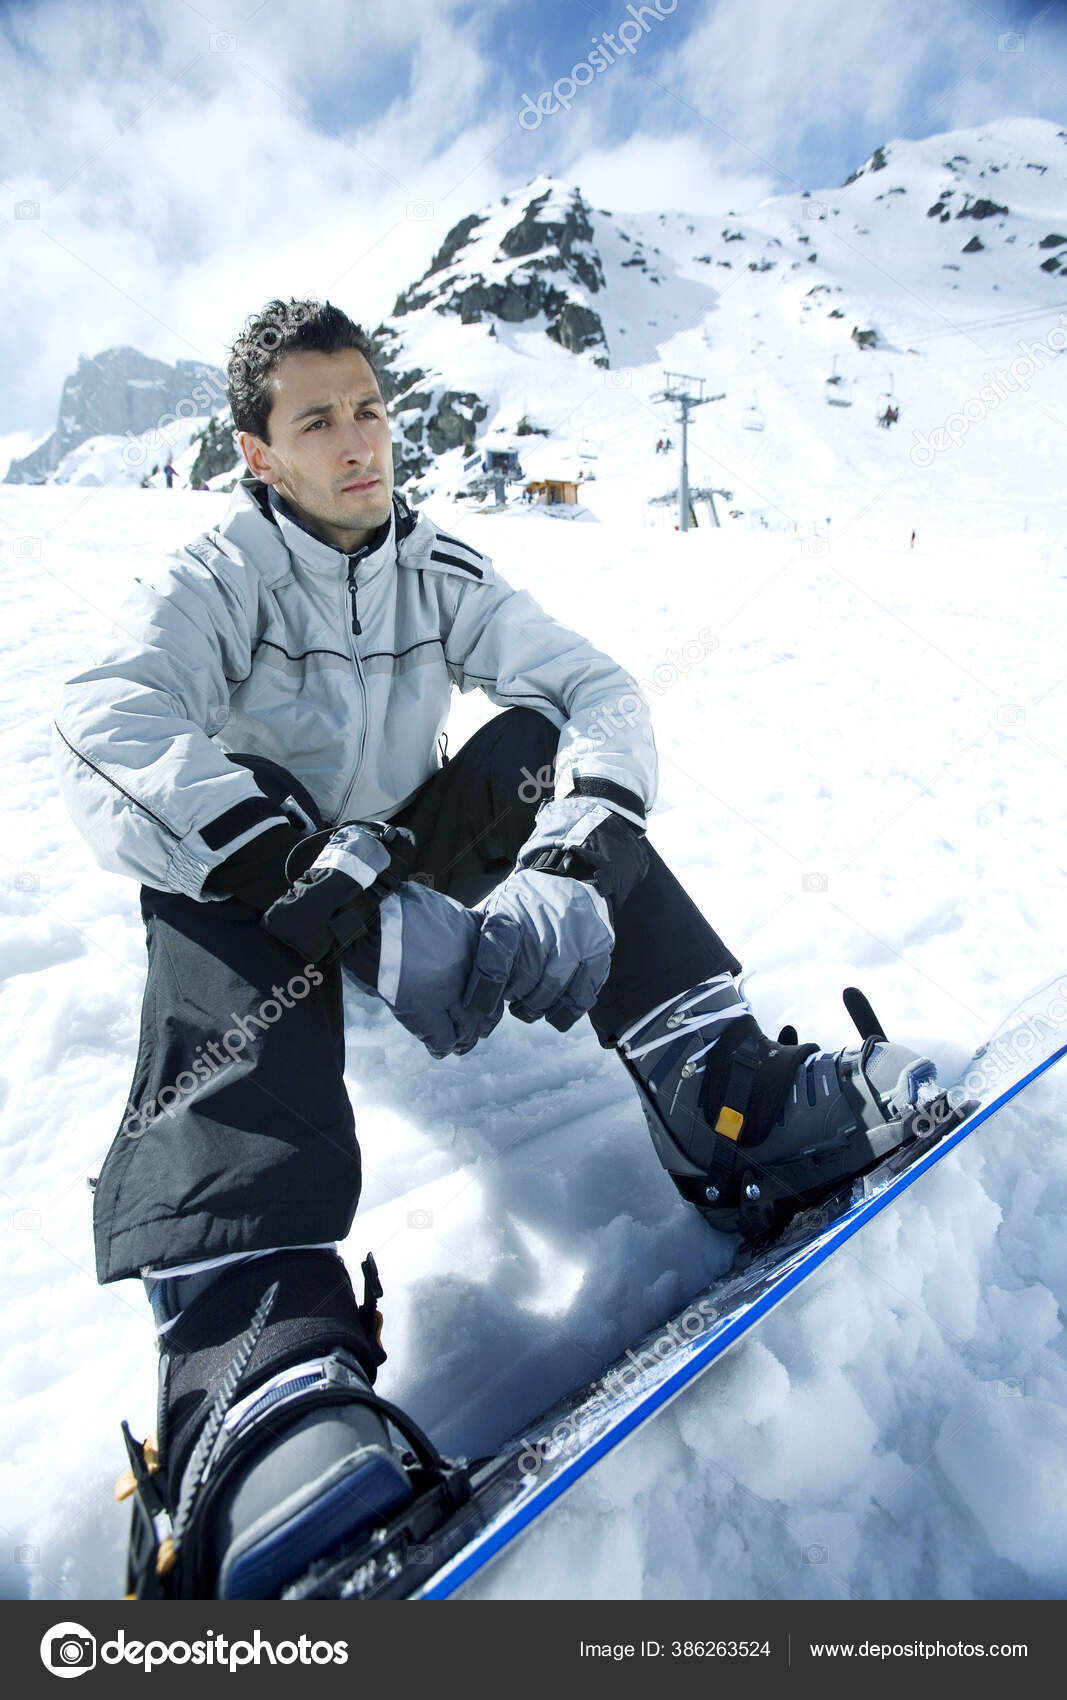snowboarder: (49, 296, 1051, 1589)
